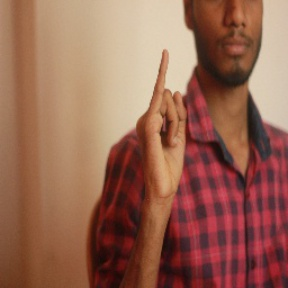I: (137, 49, 195, 199)
